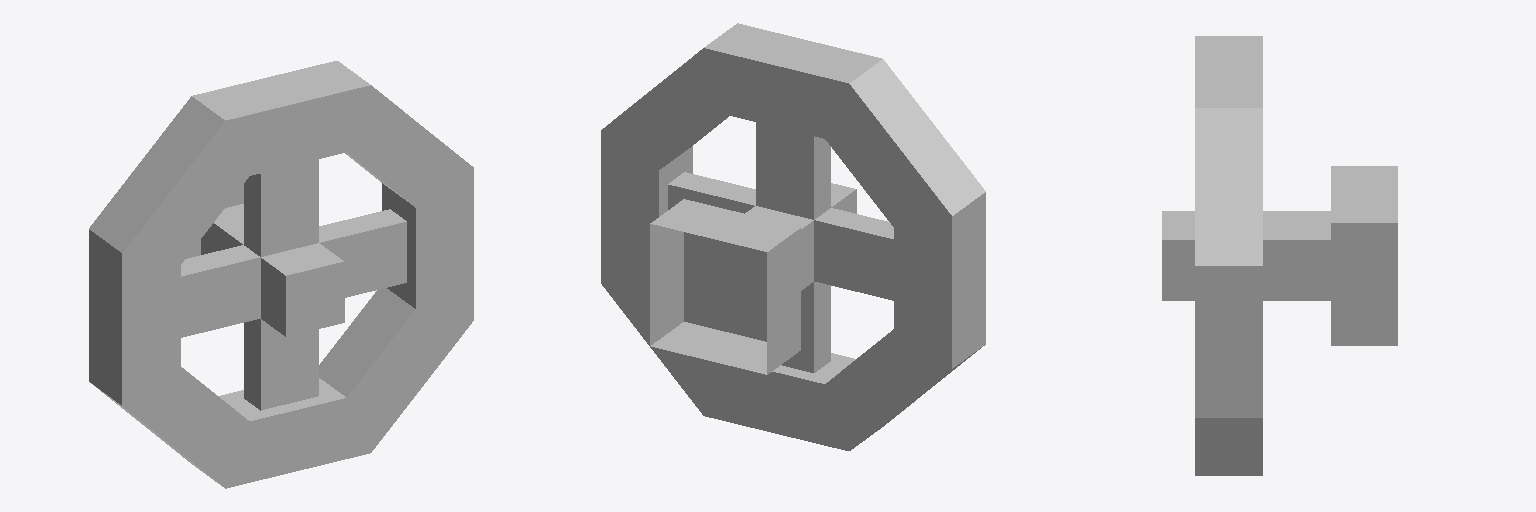
The model's file is regulator.obj.
3 renders of one model, left to right at view 1: azimuth 30°, elevation 25°; view 2: azimuth 150°, elevation 25°; view 3: azimuth 270°, elevation 25°, orthographic.
Visible parts, largest first — view 1: Wheel; view 2: Wheel, Wheel_Back; view 3: Wheel, Wheel_Back.
Boxes of the visible parts, <box> form: Wheel: <box>89,61,473,488</box>; Wheel: <box>601,23,985,450</box>; Wheel_Back: <box>650,199,800,374</box>; Wheel: <box>1162,36,1330,475</box>; Wheel_Back: <box>1331,166,1397,345</box>.
Size of the model in its own units: 6 by 6 by 3.5.